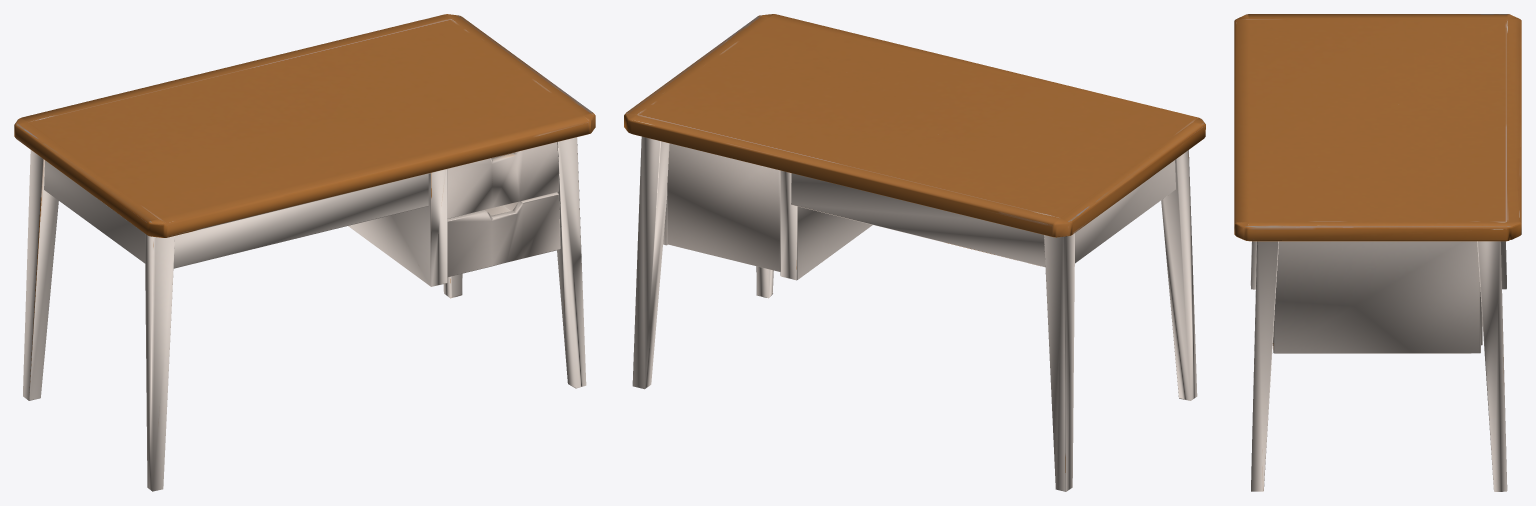
The model's file is desk.fbx.
The picture shows the model from 3 angles, left to right: view 1: azimuth 30°, elevation 25°; view 2: azimuth 150°, elevation 25°; view 3: azimuth 270°, elevation 25°; orthographic projection.
Visible parts, largest first — view 1: Mesh_0; view 2: Mesh_0; view 3: Mesh_0.
Boxes of the visible parts, left/top/right/bottom form: Mesh_0: left=14, top=14, right=595, bottom=491; Mesh_0: left=624, top=14, right=1205, bottom=491; Mesh_0: left=1234, top=14, right=1521, bottom=491.
Size of the model in its own units: 95.75 by 55.81 by 54.35.
Materials: 1 (1 with a texture image).
